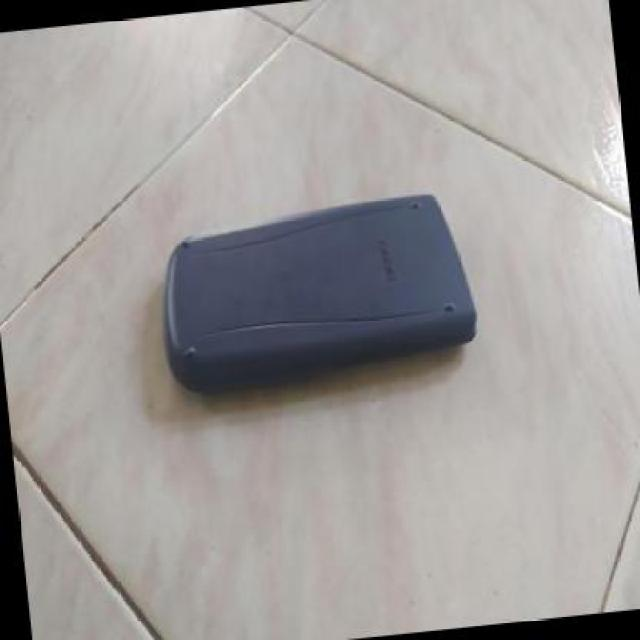Calculator: (136, 175, 490, 399)
